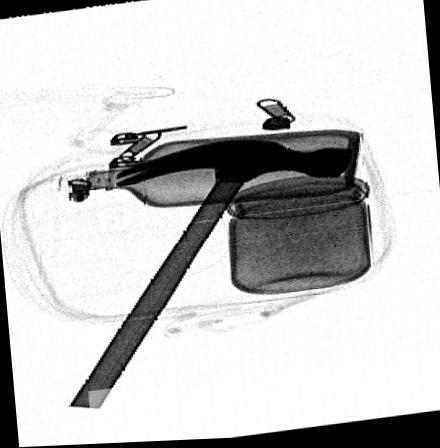Hammer: (67, 142, 354, 410)
